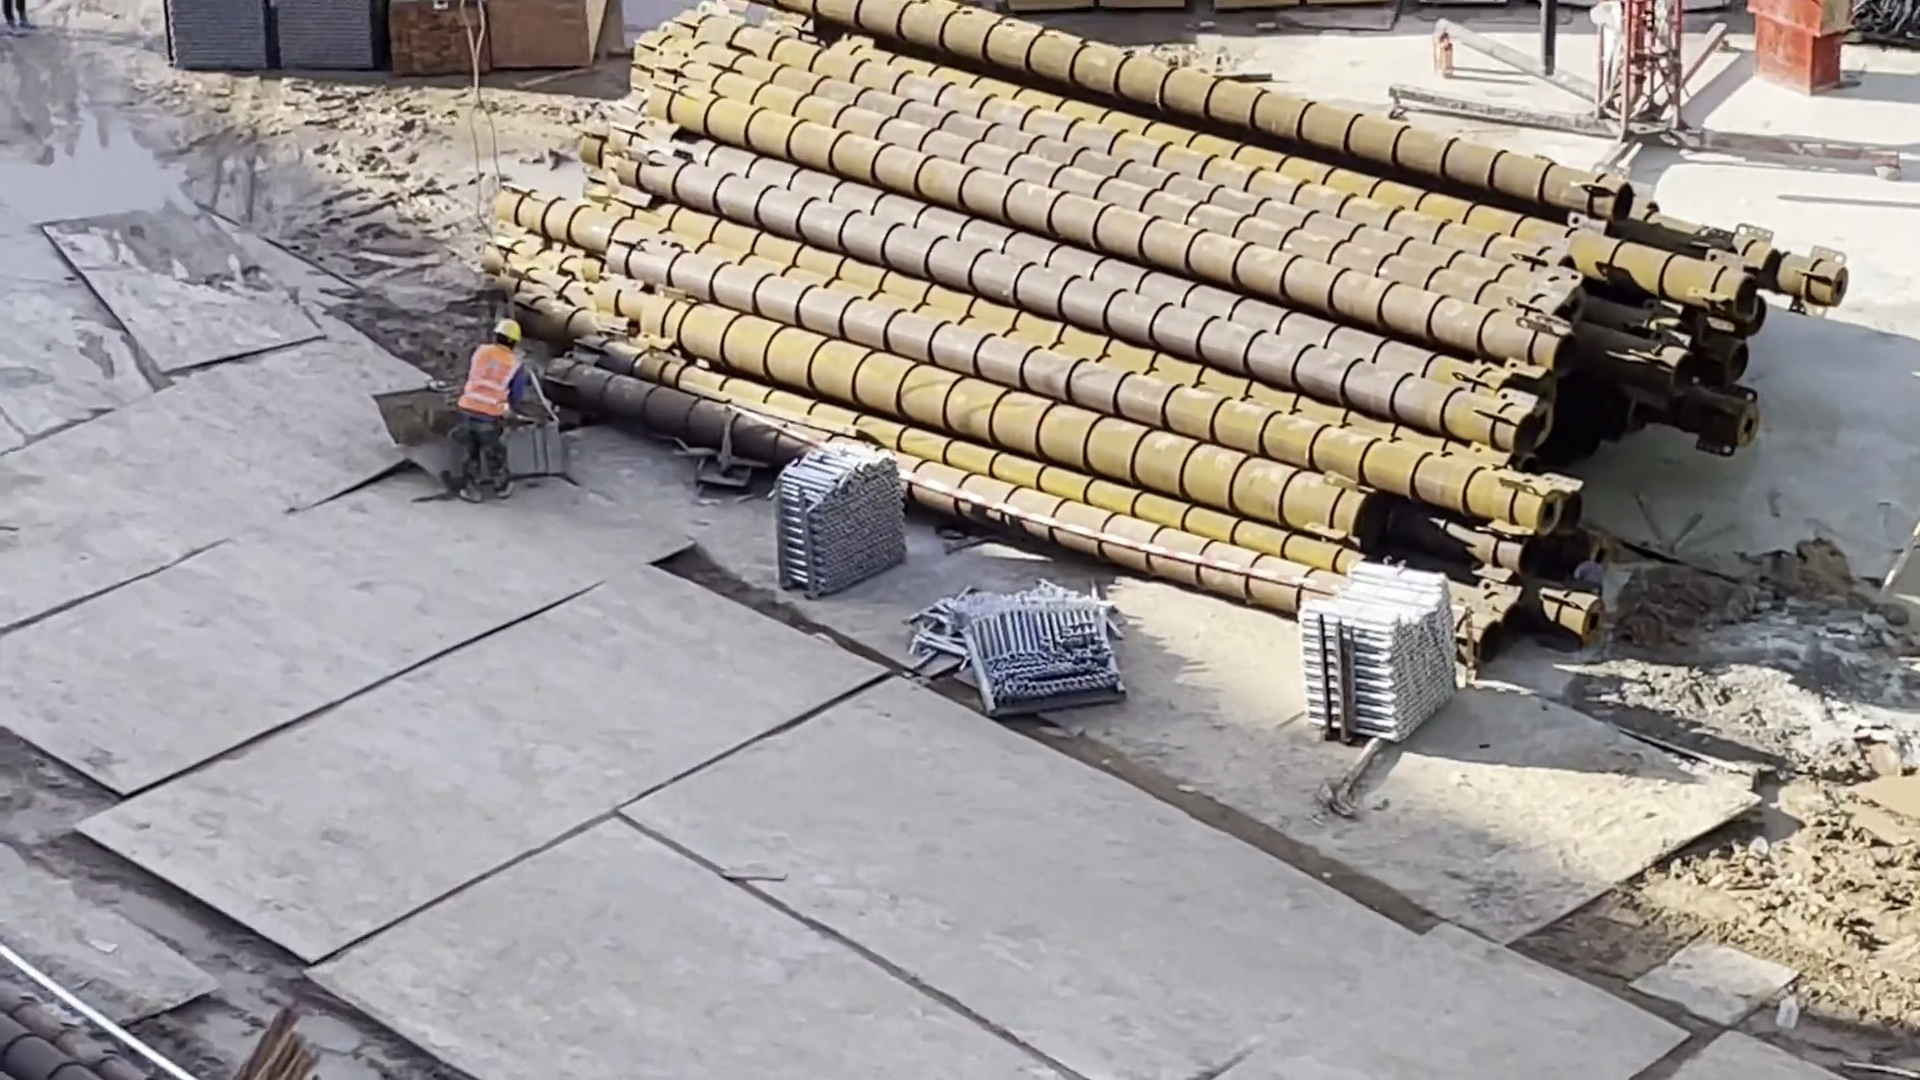helmet: (486, 313, 521, 352)
person: (454, 301, 536, 505)
scaffold: (1280, 538, 1459, 764), (759, 413, 911, 609)
vest: (456, 345, 529, 422)
